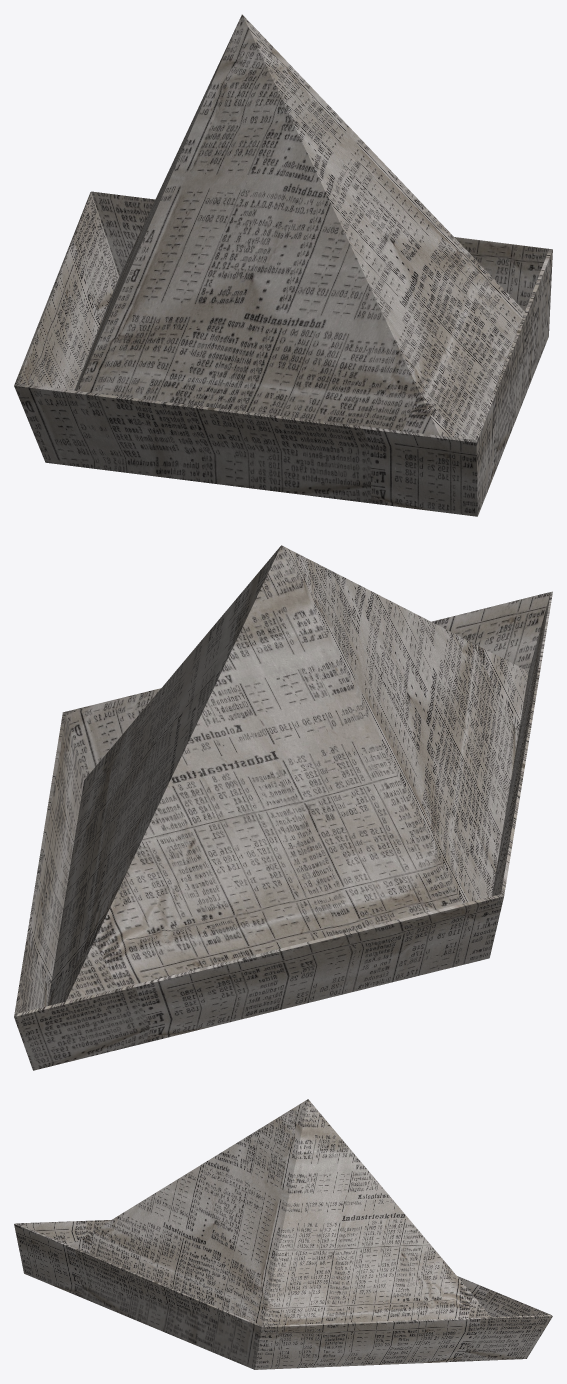
Rendered from SM_PaperHat_00.fbx.
The picture shows the model from 3 angles, top to bottom: view 1: azimuth 30°, elevation 25°; view 2: azimuth 150°, elevation 25°; view 3: azimuth 270°, elevation 25°; orthographic projection. The views are drawn at different scales.
Visible parts, largest first — view 1: SM_PaperHat_00; view 2: SM_PaperHat_00; view 3: SM_PaperHat_00.
Part boxes in pixels (x1,y1,x2,y2): SM_PaperHat_00: (14, 14, 552, 516); SM_PaperHat_00: (14, 545, 552, 1070); SM_PaperHat_00: (14, 1099, 552, 1369).
Size of the model in its own units: 41.3 by 33.57 by 67.93.
